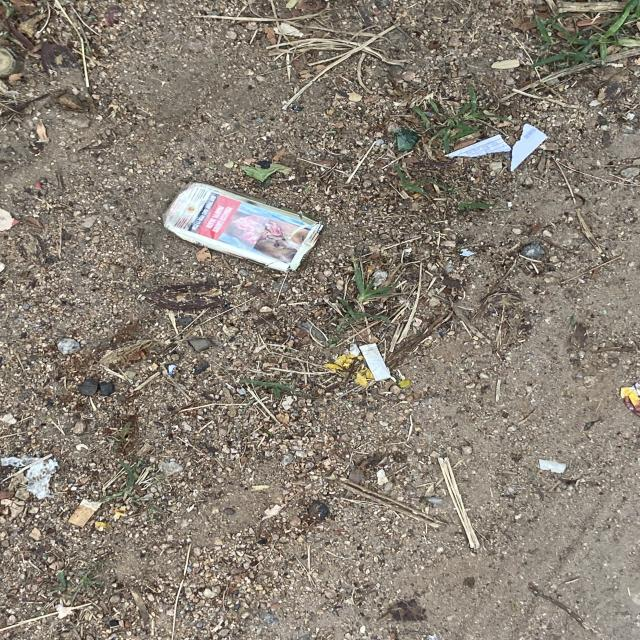ly_hop_giay: (163, 182, 323, 272)
